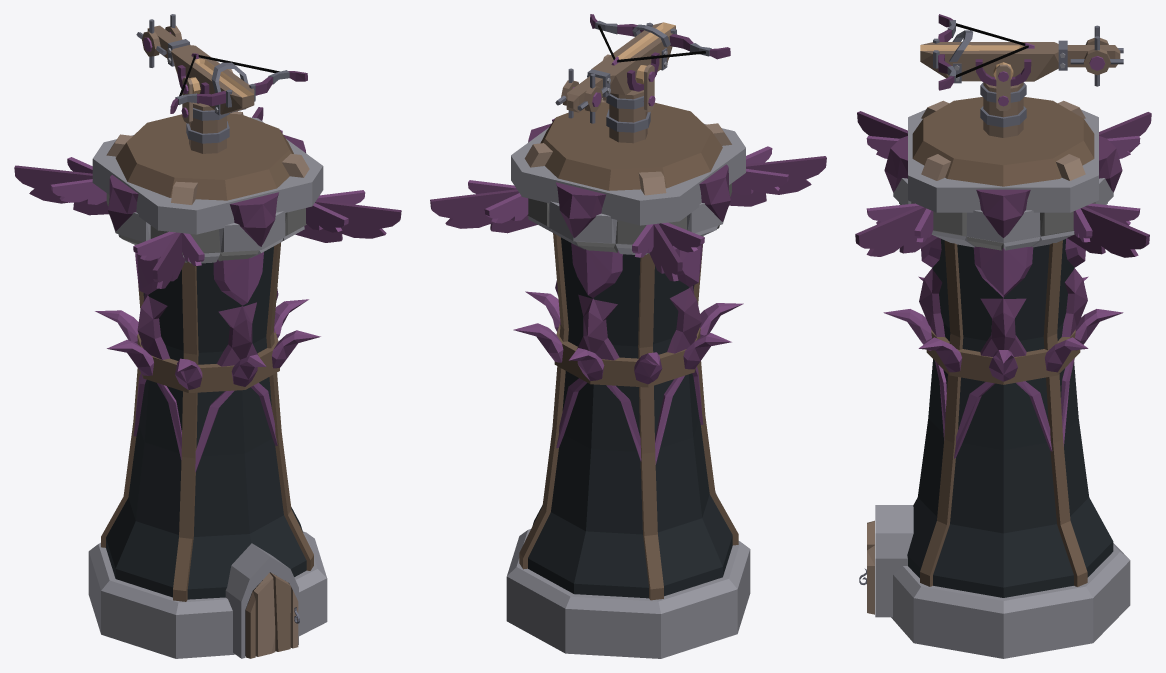
File: Ballista_LVL3.fbx
The picture shows the model from 3 angles, left to right: view 1: azimuth 30°, elevation 25°; view 2: azimuth 150°, elevation 25°; view 3: azimuth 270°, elevation 25°; orthographic projection. The views are drawn at different scales.
Parts seen in each view (by area): view 1: Ballista_tower_LVL_3.002, Ballista_tower_LVL_3.001; view 2: Ballista_tower_LVL_3.002, Ballista_tower_LVL_3.001; view 3: Ballista_tower_LVL_3.002, Ballista_tower_LVL_3.001.
Part boxes in pixels (bbox=[...]): Ballista_tower_LVL_3.002: bbox=[14, 102, 401, 658]; Ballista_tower_LVL_3.001: bbox=[136, 14, 307, 123]; Ballista_tower_LVL_3.002: bbox=[430, 90, 826, 658]; Ballista_tower_LVL_3.001: bbox=[555, 14, 730, 123]; Ballista_tower_LVL_3.002: bbox=[855, 82, 1151, 658]; Ballista_tower_LVL_3.001: bbox=[920, 14, 1123, 110].
Bounding box in the file's own units: 662 × 1413 × 662.
